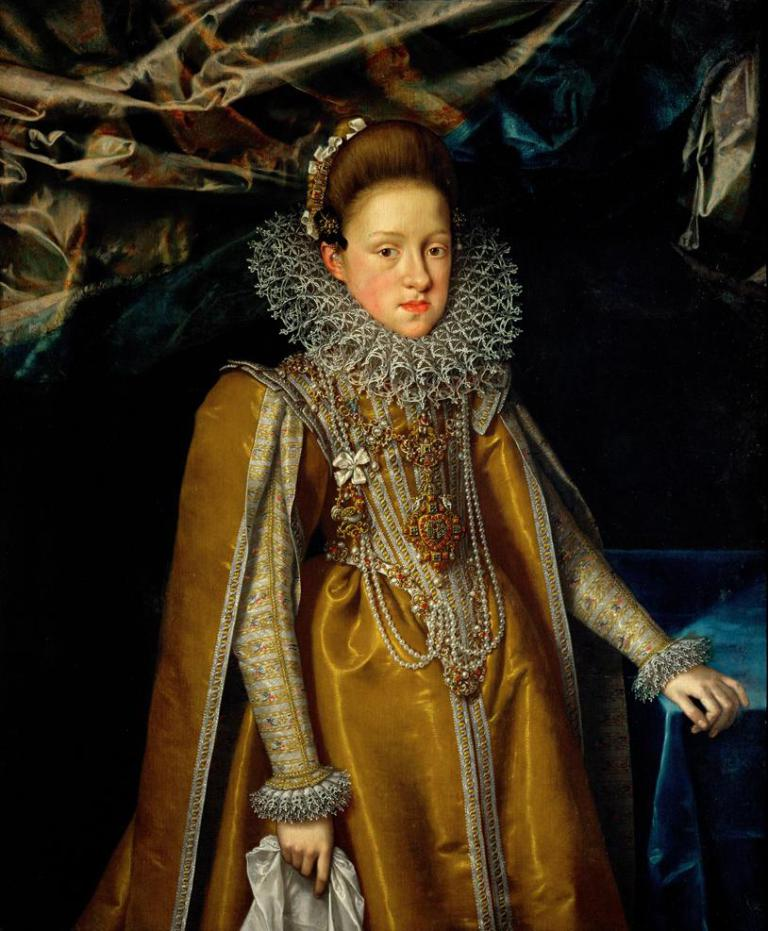Human_hand: (667, 653, 751, 756), (273, 819, 334, 905)
